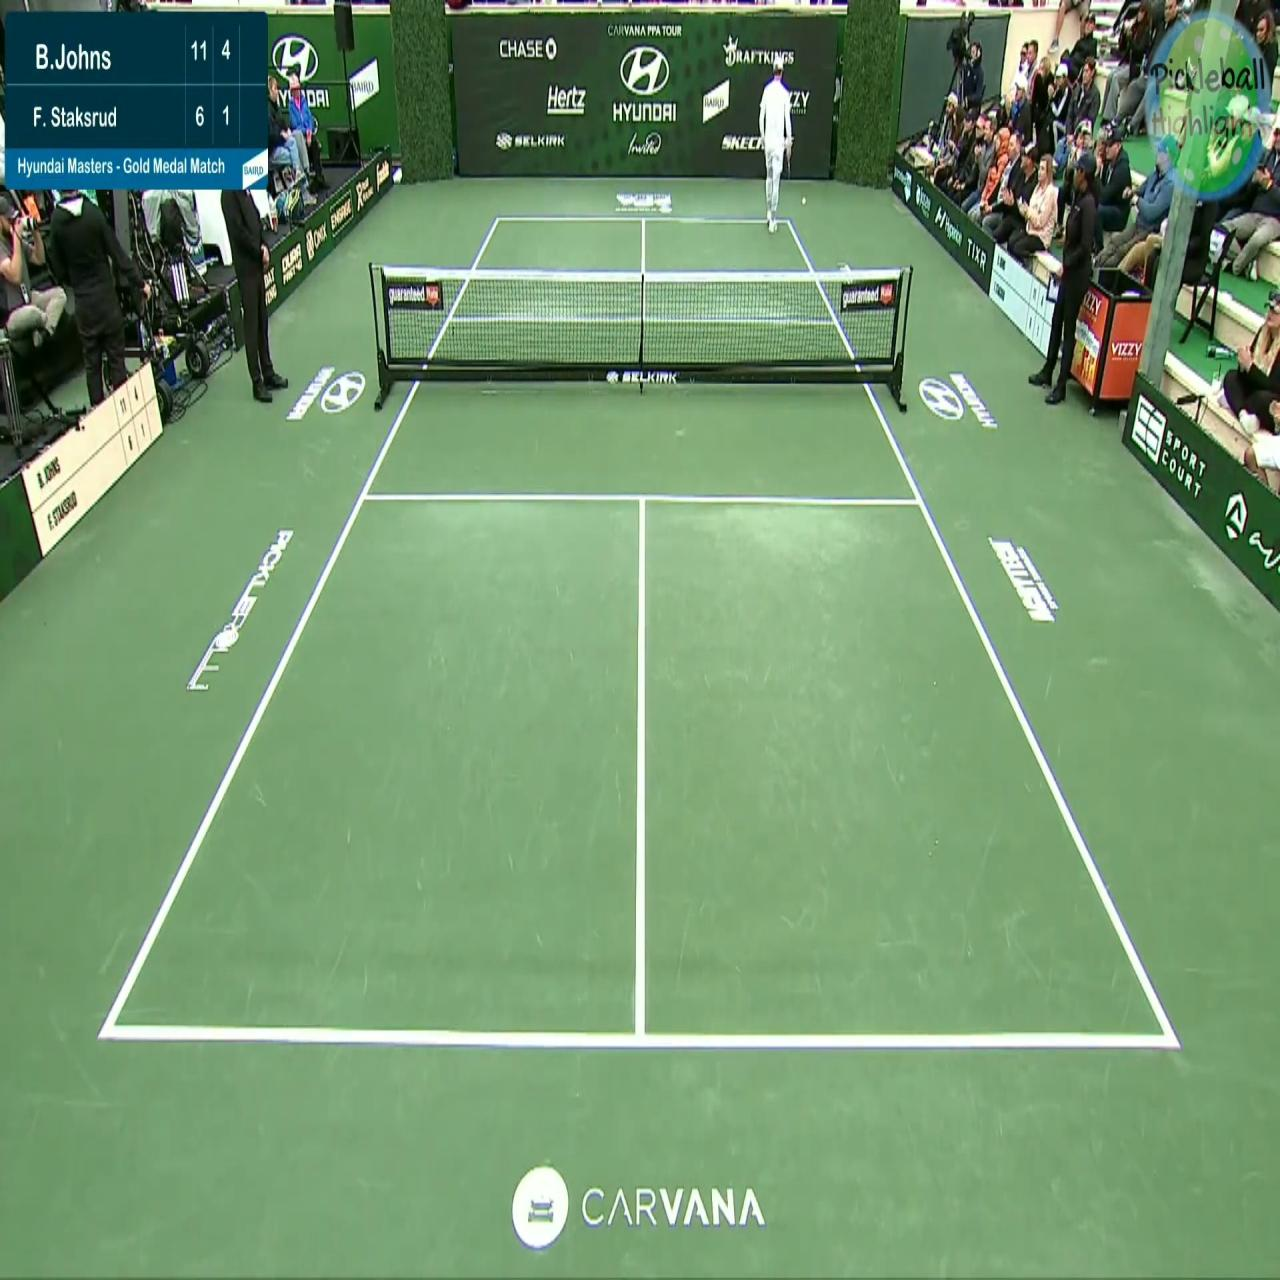pickleball: (802, 196, 806, 205)
